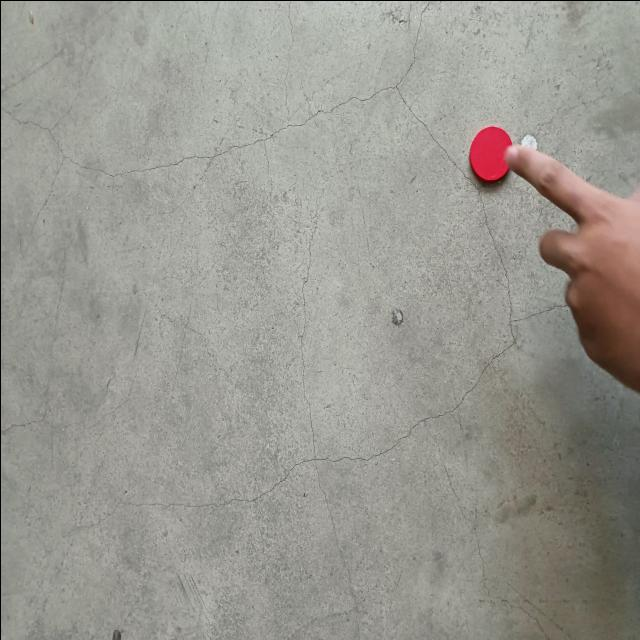chip: (468, 127, 514, 181)
